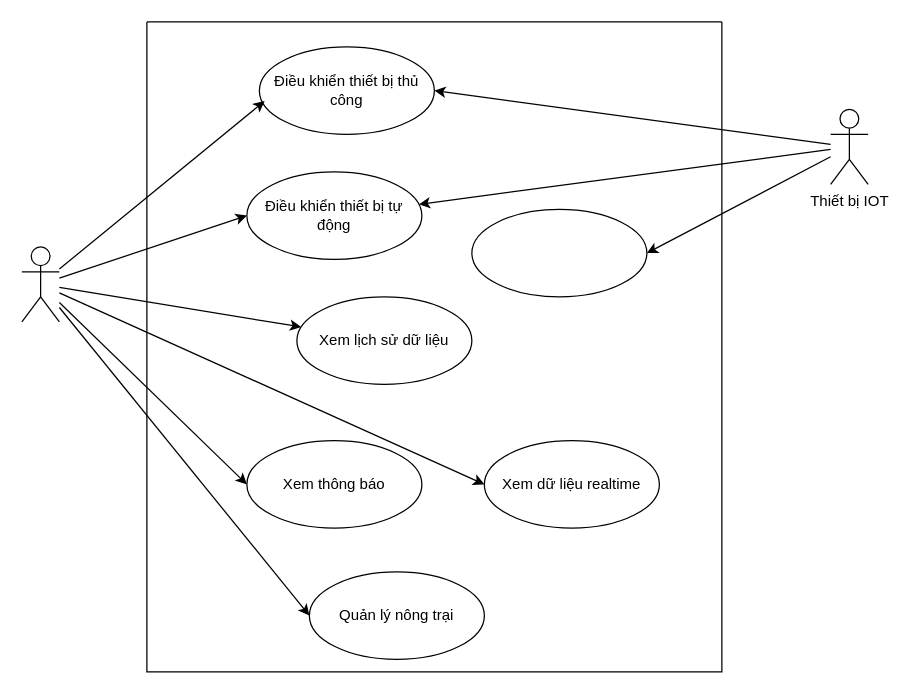
Some shapes in this 910 by 694 pixel diagram are drawn without their labels. Here are the shapes that lost their labels. From the top down, the box of each, then its label:
(471, 208, 647, 297): Thu thập dữ liệu
(21, 246, 59, 322): User
